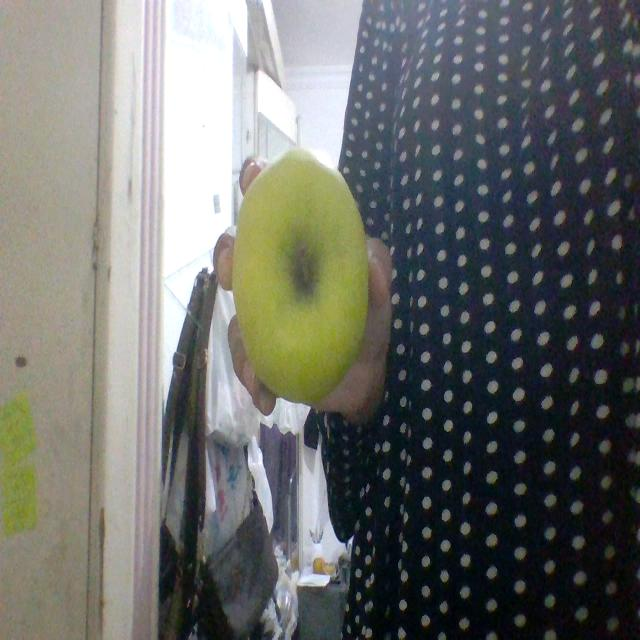50-_ripeness: (233, 144, 369, 396)
